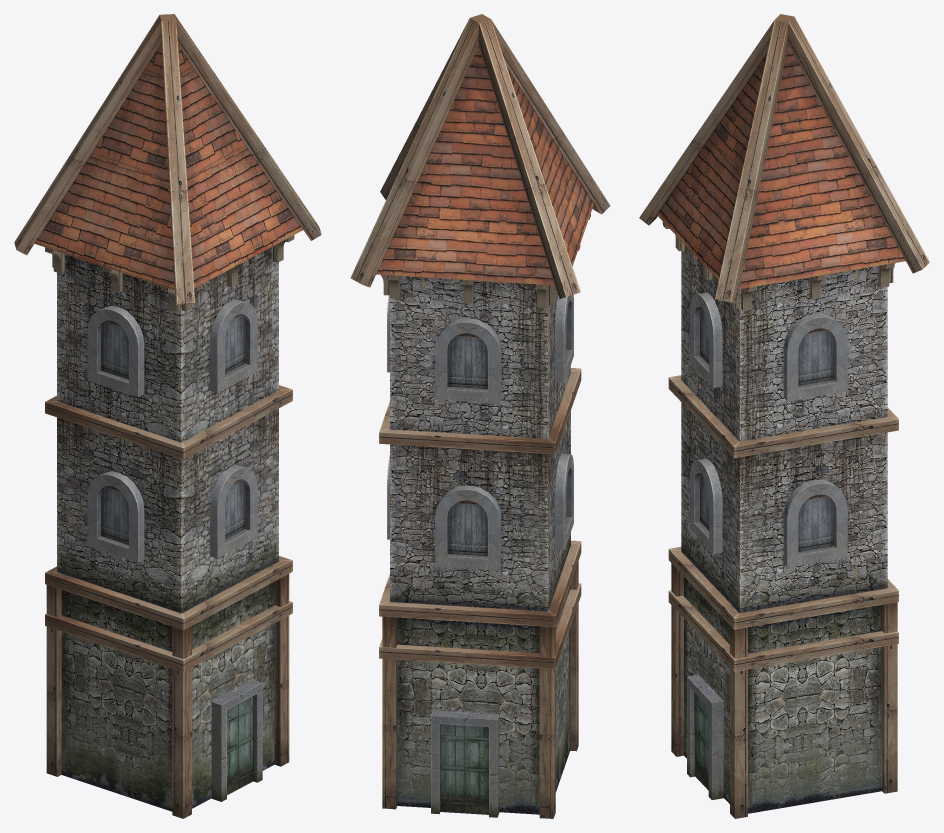
File: tower.obj
The picture shows the model from 3 angles, left to right: view 1: azimuth 30°, elevation 25°; view 2: azimuth 150°, elevation 25°; view 3: azimuth 270°, elevation 25°; orthographic projection.
Visible parts, largest first — view 1: Tower_Untitled.004; view 2: Tower_Untitled.004; view 3: Tower_Untitled.004.
Boxes of the visible parts, x1,y1,x2,y2 form: Tower_Untitled.004: (14, 14, 321, 818); Tower_Untitled.004: (350, 14, 610, 818); Tower_Untitled.004: (639, 14, 929, 818).
Bounding box in the file's own units: 5.89 × 16.83 × 5.89.
Materials: 1 (1 with a texture image).
